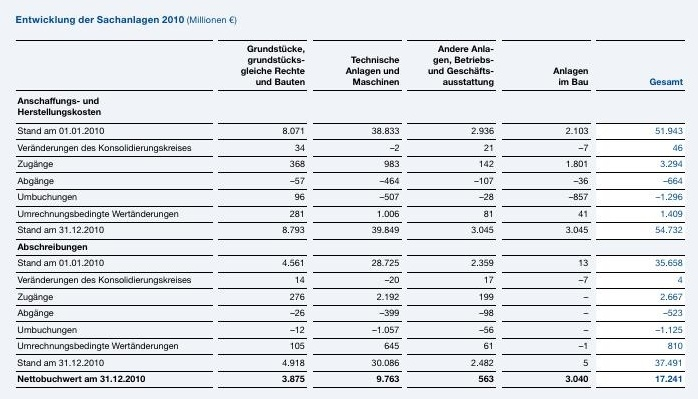table: (0, 0, 698, 399)
